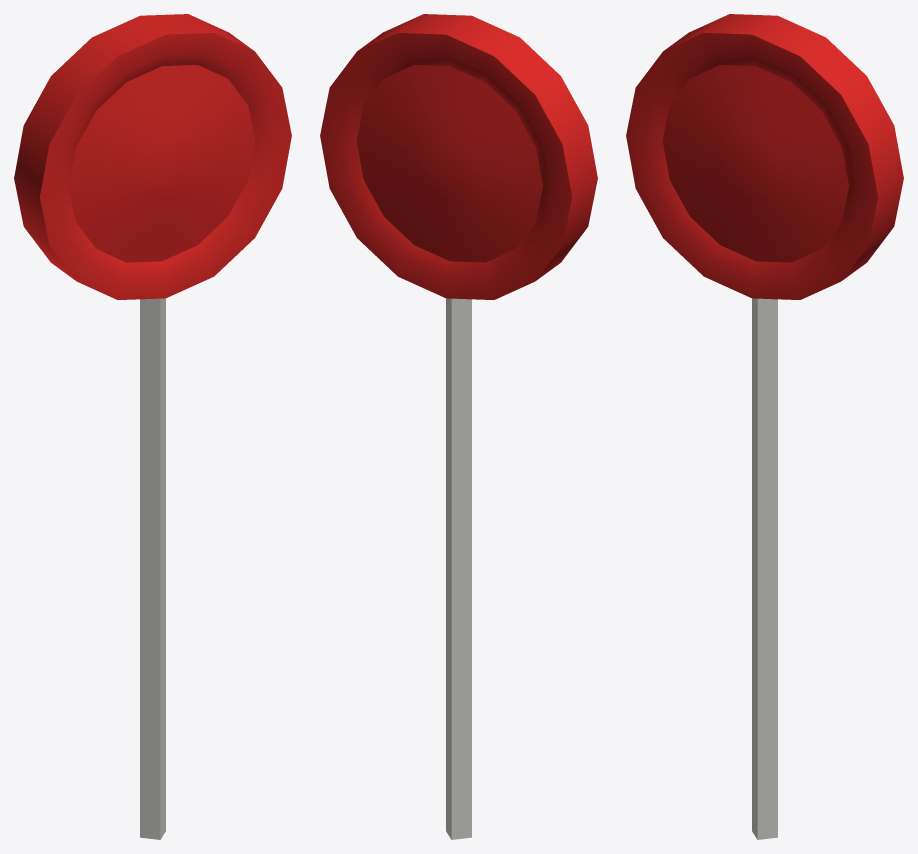
File: SM_Lollipop.fbx
The picture shows the model from 3 angles, left to right: view 1: azimuth 30°, elevation 25°; view 2: azimuth 150°, elevation 25°; view 3: azimuth 330°, elevation 25°; orthographic projection.
Parts seen in each view (by area): view 1: SM_Lollipop; view 2: SM_Lollipop; view 3: SM_Lollipop.
Part boxes in pixels (bbox=[...]): SM_Lollipop: bbox=[14, 14, 291, 839]; SM_Lollipop: bbox=[320, 14, 597, 839]; SM_Lollipop: bbox=[626, 14, 903, 839].
Size of the model in its own units: 19.58 by 60.08 by 4.39.
